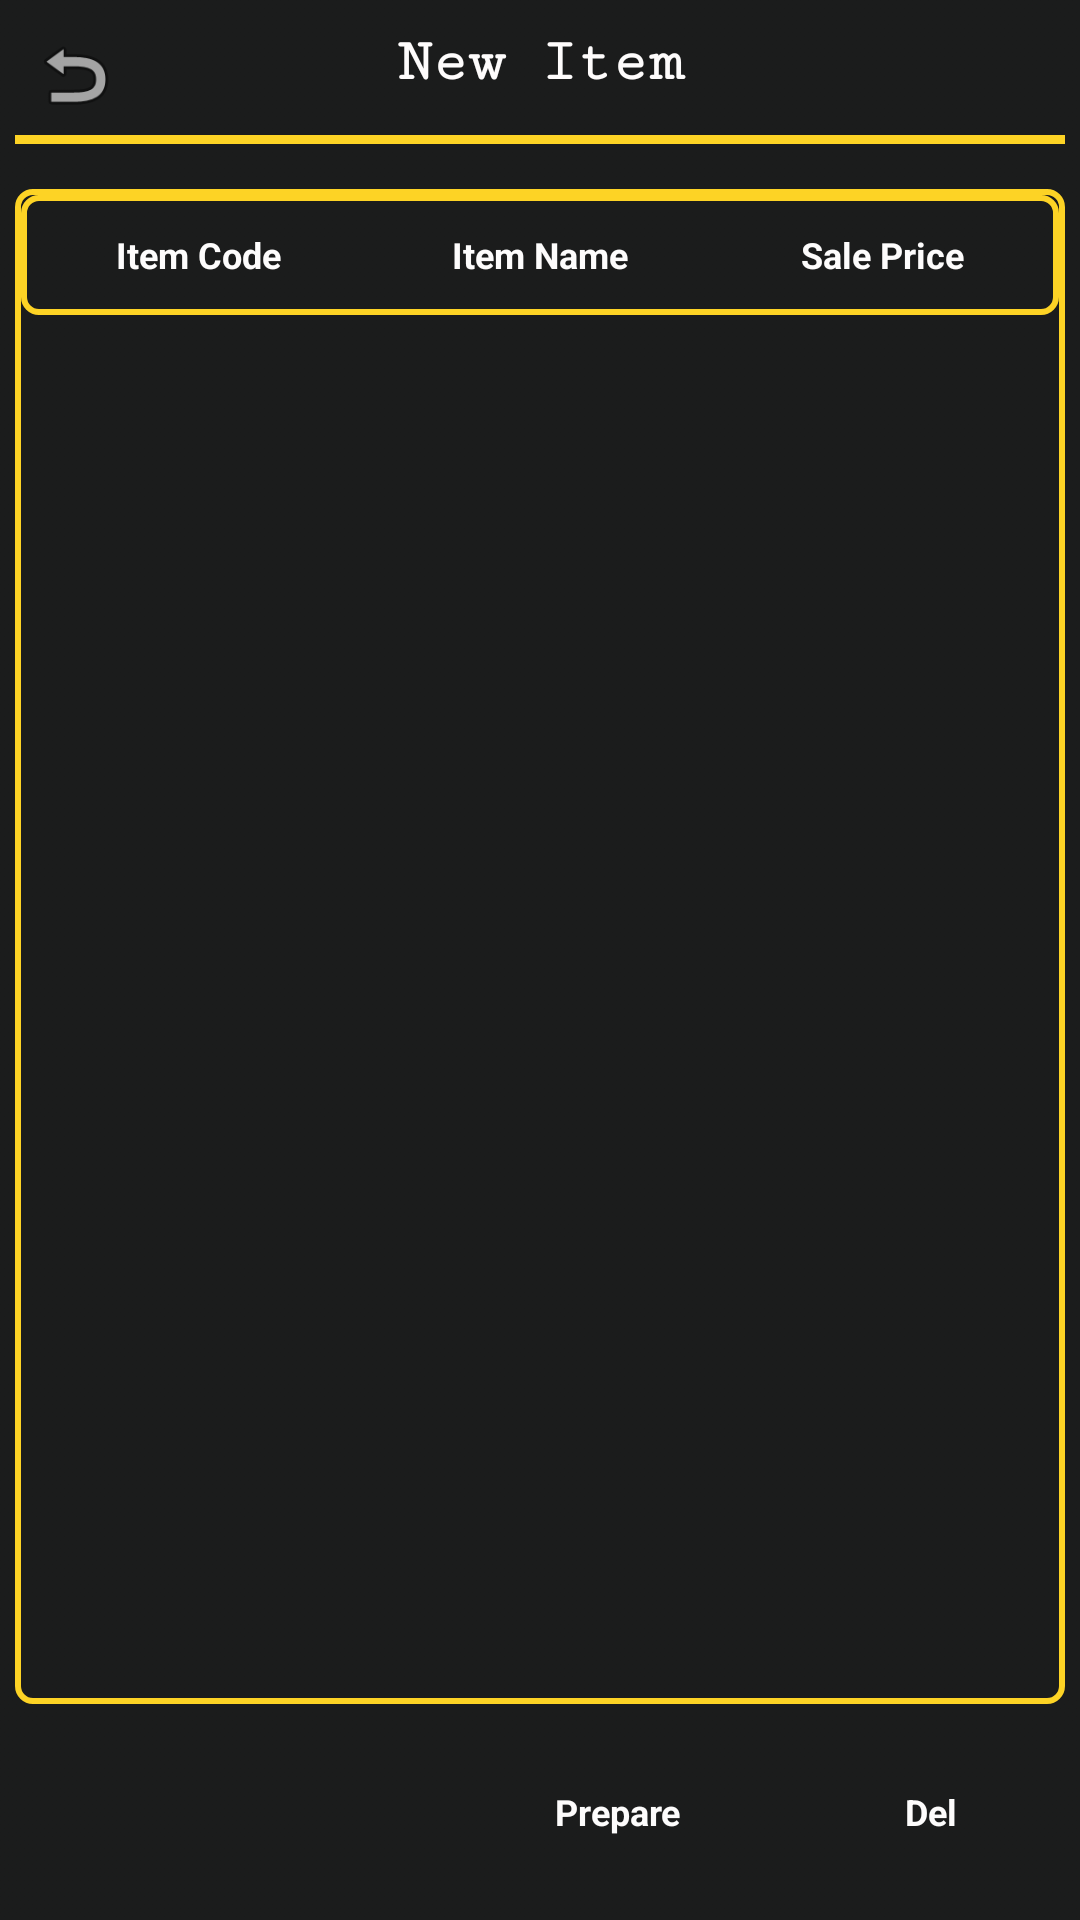

Icon click points for this 1080 × 1920 phone screenshot, format (x=x, y=y):
revert: (x=76, y=75)
